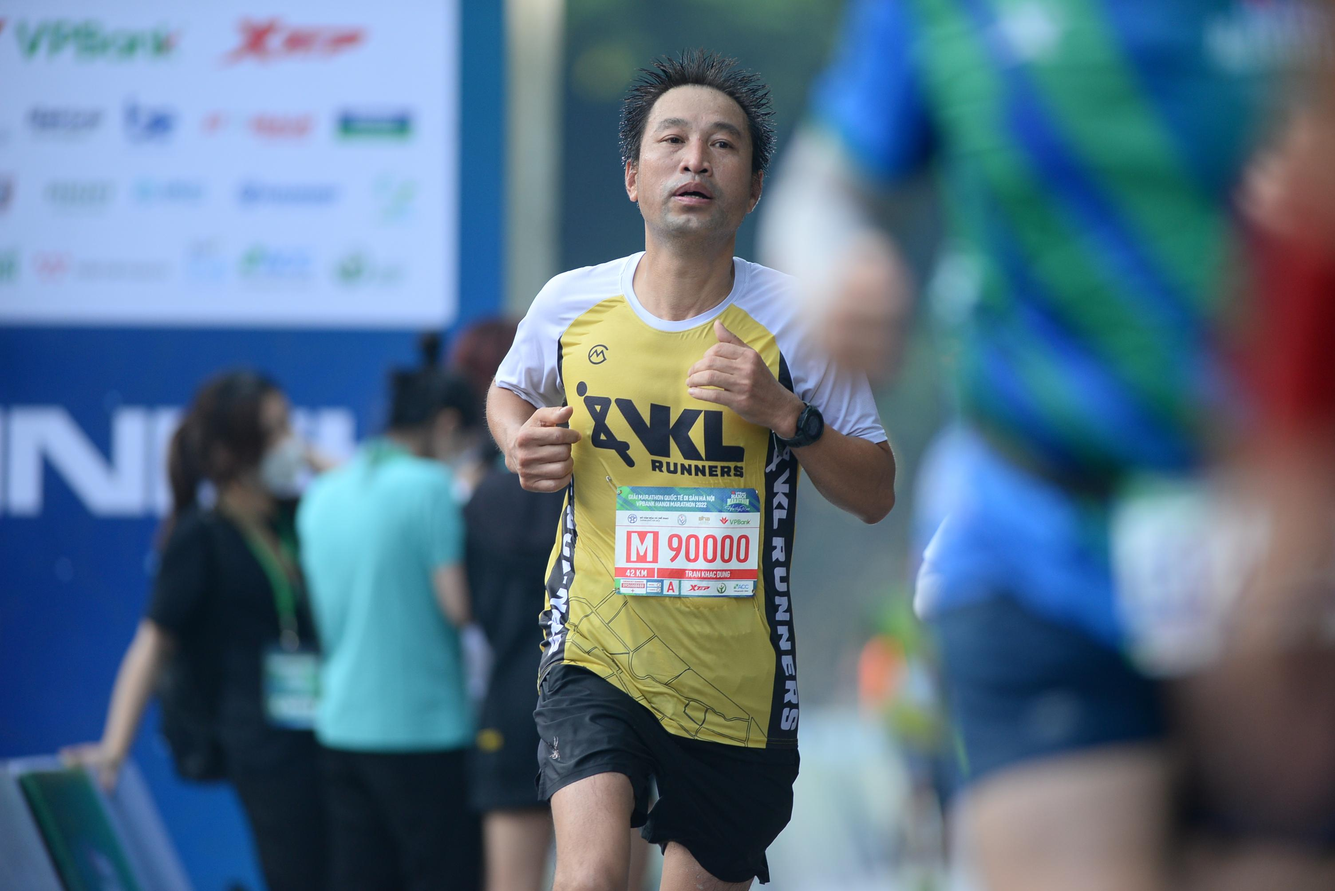bib: (616, 489, 759, 597)
